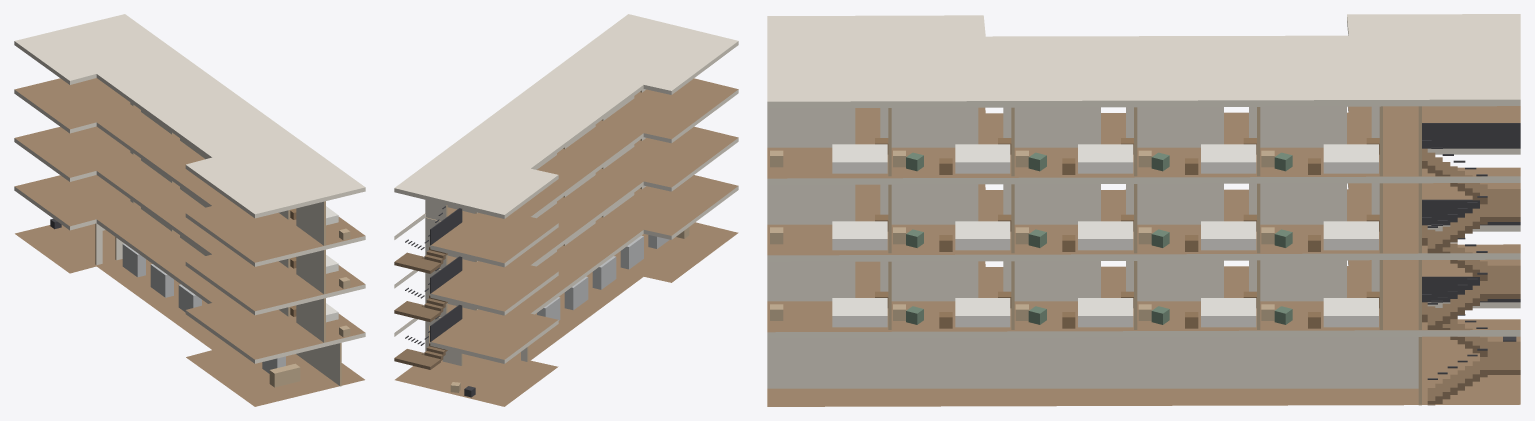
Rendered from interior.glb.
3 views of the same model, side by side, from view 1: azimuth 30°, elevation 25°; view 2: azimuth 150°, elevation 25°; view 3: azimuth 270°, elevation 25° (orthographic). The views are drawn at different scales.
Visible parts, largest first — view 1: slabs, partitions, coarse-s0, coarse-s3, coarse-s1, coarse-s2; view 2: slabs, stair, coarse-s0, partitions; view 3: slabs, partitions, stair, coarse-s2, coarse-s3, coarse-s1.
Boxes of the visible parts, x1,y1,x2,y2 form: slabs: (14, 14, 365, 406); partitions: (95, 102, 341, 386); coarse-s0: (50, 218, 300, 387); coarse-s3: (290, 206, 350, 240); coarse-s1: (290, 303, 350, 337); coarse-s2: (290, 255, 350, 288); slabs: (394, 14, 738, 406); stair: (394, 206, 462, 369); coarse-s0: (450, 227, 689, 397); partitions: (425, 89, 645, 365); slabs: (767, 14, 1520, 406); partitions: (767, 106, 1421, 405); stair: (1422, 123, 1520, 405); coarse-s2: (770, 214, 1379, 251); coarse-s3: (770, 138, 1379, 174); coarse-s1: (770, 291, 1379, 328).
Bounding box in the file's own units: 7.5 × 12.18 × 27.21.
